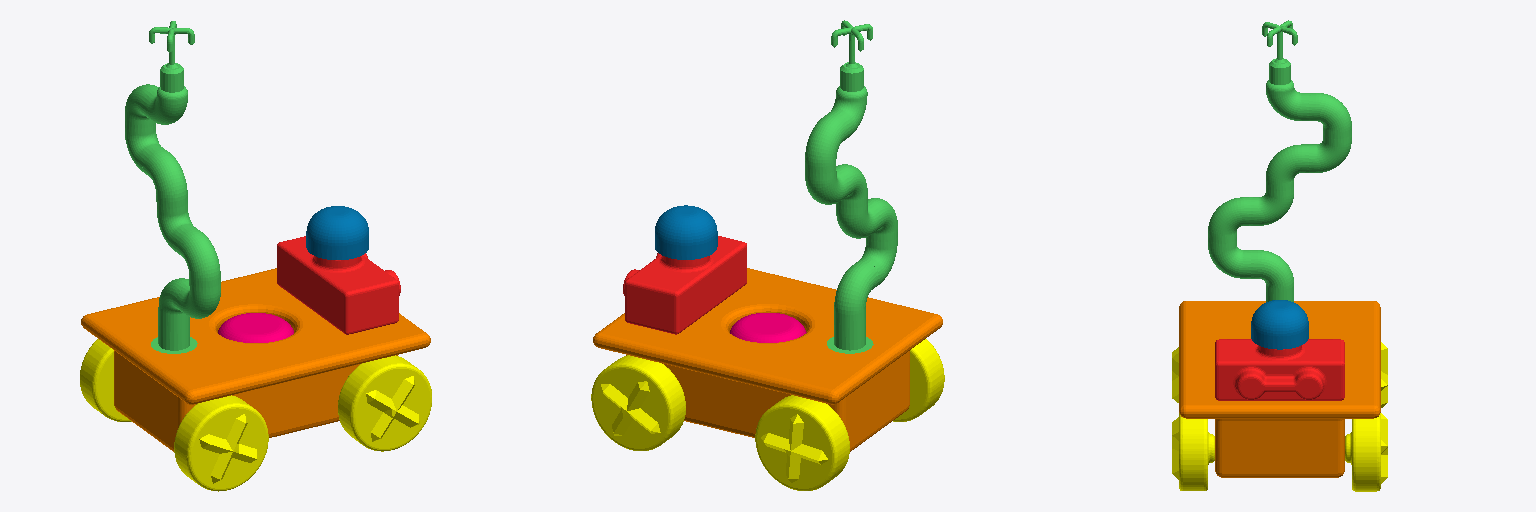
URDF robot description (MRobot):
<?xml version="1.0" encoding="utf-8"?>
<!-- This URDF was automatically created by SolidWorks to URDF Exporter! Originally created by [author] ([email redacted]) 
     Commit Version: 1.6.0-4-g7f85cfe  Build Version: 1.6.7995.38578
     For more information, please see http://wiki.ros.org/sw_urdf_exporter -->
<robot
  name="MRobot">
  <link
    name="base_link">
    <inertial>
      <origin
        xyz="-2.7756E-17 2.7756E-17 0.093261"
        rpy="0 0 0" />
      <mass
        value="7.1556" />
      <inertia
        ixx="0.036675"
        ixy="6.4322E-18"
        ixz="-8.9158E-18"
        iyy="0.076383"
        iyz="2.5114E-19"
        izz="0.094459" />
    </inertial>
    <visual>
      <origin
        xyz="0 0 0"
        rpy="0 0 0" />
      <geometry>
        <mesh
          filename="package://mrobot_description/meshes/base_link.STL" />
      </geometry>
      <material
        name="">
        <color
          rgba="1 0.54902 0 1" />
      </material>
    </visual>
    <collision>
      <origin
        xyz="0 0 0"
        rpy="0 0 0" />
      <geometry>
        <mesh
          filename="package://mrobot_description/meshes/base_link.STL" />
      </geometry>
    </collision>
  </link>
  <link
    name="LFW_Link">
    <inertial>
      <origin
        xyz="2.3243E-06 -0.020721 -6.7841E-07"
        rpy="0 0 0" />
      <mass
        value="0.48673" />
      <inertia
        ixx="0.00050184"
        ixy="-3.1361E-08"
        ixz="2.2406E-09"
        iyy="0.00081481"
        iyz="9.1535E-09"
        izz="0.00050184" />
    </inertial>
    <visual>
      <origin
        xyz="0 0 0"
        rpy="0 0 0" />
      <geometry>
        <mesh
          filename="package://mrobot_description/meshes/LFW_Link.STL" />
      </geometry>
      <material
        name="">
        <color
          rgba="1 1 0 1" />
      </material>
    </visual>
    <collision>
      <origin
        xyz="0 0 0"
        rpy="0 0 0" />
      <geometry>
        <mesh
          filename="package://mrobot_description/meshes/LFW_Link.STL" />
      </geometry>
    </collision>
  </link>
  <joint
    name="LFW_Joint"
    type="continuous">
    <origin
      xyz="0.12 0.14 0.0599"
      rpy="0 0 0" />
    <parent
      link="base_link" />
    <child
      link="LFW_Link" />
    <axis
      xyz="0 1 0" />
  </joint>
  <link
    name="LBW_Link">
    <inertial>
      <origin
        xyz="1.8572E-06 -0.020721 -1.5535E-06"
        rpy="0 0 0" />
      <mass
        value="0.48673" />
      <inertia
        ixx="0.00050184"
        ixy="-2.5058E-08"
        ixz="4.0997E-09"
        iyy="0.00081481"
        iyz="2.0962E-08"
        izz="0.00050184" />
    </inertial>
    <visual>
      <origin
        xyz="0 0 0"
        rpy="0 0 0" />
      <geometry>
        <mesh
          filename="package://mrobot_description/meshes/LBW_Link.STL" />
      </geometry>
      <material
        name="">
        <color
          rgba="1 1 0 1" />
      </material>
    </visual>
    <collision>
      <origin
        xyz="0 0 0"
        rpy="0 0 0" />
      <geometry>
        <mesh
          filename="package://mrobot_description/meshes/LBW_Link.STL" />
      </geometry>
    </collision>
  </link>
  <joint
    name="LBW_Joint"
    type="continuous">
    <origin
      xyz="-0.12 0.14 0.0599"
      rpy="0 0 0" />
    <parent
      link="base_link" />
    <child
      link="LBW_Link" />
    <axis
      xyz="0 1 0" />
  </joint>
  <link
    name="RFW_Link">
    <inertial>
      <origin
        xyz="-2.4027E-06 0.020721 -2.9925E-07"
        rpy="0 0 0" />
      <mass
        value="0.48673" />
      <inertia
        ixx="0.00050184"
        ixy="-3.2419E-08"
        ixz="-1.0217E-09"
        iyy="0.00081481"
        iyz="-4.0377E-09"
        izz="0.00050185" />
    </inertial>
    <visual>
      <origin
        xyz="0 0 0"
        rpy="0 0 0" />
      <geometry>
        <mesh
          filename="package://mrobot_description/meshes/RFW_Link.STL" />
      </geometry>
      <material
        name="">
        <color
          rgba="1 1 0 1" />
      </material>
    </visual>
    <collision>
      <origin
        xyz="0 0 0"
        rpy="0 0 0" />
      <geometry>
        <mesh
          filename="package://mrobot_description/meshes/RFW_Link.STL" />
      </geometry>
    </collision>
  </link>
  <joint
    name="RFW_Joint"
    type="continuous">
    <origin
      xyz="0.12 -0.14 0.0599"
      rpy="0 0 0" />
    <parent
      link="base_link" />
    <child
      link="RFW_Link" />
    <axis
      xyz="0 1 0" />
  </joint>
  <link
    name="RBW_Link">
    <inertial>
      <origin
        xyz="2.3148E-06 0.020721 7.1032E-07"
        rpy="0 0 0" />
      <mass
        value="0.48673" />
      <inertia
        ixx="0.00050184"
        ixy="3.1232E-08"
        ixz="-2.3363E-09"
        iyy="0.00081481"
        iyz="9.5841E-09"
        izz="0.00050184" />
    </inertial>
    <visual>
      <origin
        xyz="0 0 0"
        rpy="0 0 0" />
      <geometry>
        <mesh
          filename="package://mrobot_description/meshes/RBW_Link.STL" />
      </geometry>
      <material
        name="">
        <color
          rgba="1 1 0 1" />
      </material>
    </visual>
    <collision>
      <origin
        xyz="0 0 0"
        rpy="0 0 0" />
      <geometry>
        <mesh
          filename="package://mrobot_description/meshes/RBW_Link.STL" />
      </geometry>
    </collision>
  </link>
  <joint
    name="RBW_Joint"
    type="continuous">
    <origin
      xyz="-0.12 -0.14 0.0599000145774858"
      rpy="0 0 0" />
    <parent
      link="base_link" />
    <child
      link="RBW_Link" />
    <axis
      xyz="0 1 0" />
  </joint>
  <link
    name="IMU_Link">
    <inertial>
      <origin
        xyz="-2.7756E-17 0 0.025"
        rpy="0 0 0" />
      <mass
        value="0.34358" />
      <inertia
        ixx="0.00025428"
        ixy="5.1726E-22"
        ixz="-6.1904E-21"
        iyy="0.00025428"
        iyz="-1.6674E-37"
        izz="0.00038703" />
    </inertial>
    <visual>
      <origin
        xyz="0 0 0"
        rpy="0 0 0" />
      <geometry>
        <mesh
          filename="package://mrobot_description/meshes/IMU_Link.STL" />
      </geometry>
      <material
        name="">
        <color
          rgba="1 0 0.50196 1" />
      </material>
    </visual>
    <collision>
      <origin
        xyz="0 0 0"
        rpy="0 0 0" />
      <geometry>
        <mesh
          filename="package://mrobot_description/meshes/IMU_Link.STL" />
      </geometry>
    </collision>
  </link>
  <joint
    name="IMU_Joint"
    type="fixed">
    <origin
      xyz="0 0 0.0999"
      rpy="0 0 0" />
    <parent
      link="base_link" />
    <child
      link="IMU_Link" />
    <axis
      xyz="0 0 1" />
  </joint>
  <link
    name="Camera_Link">
    <inertial>
      <origin
        xyz="-0.05702 5.5511E-17 -4.6026E-05"
        rpy="0 0 0" />
      <mass
        value="1.0337" />
      <inertia
        ixx="0.0028575"
        ixy="-6.1857E-20"
        ixz="-1.4178E-07"
        iyy="0.0010679"
        iyz="1.6895E-19"
        izz="0.0030374" />
    </inertial>
    <visual>
      <origin
        xyz="0 0 0"
        rpy="0 0 0" />
      <geometry>
        <mesh
          filename="package://mrobot_description/meshes/Camera_Link.STL" />
      </geometry>
      <material
        name="">
        <color
          rgba="1 0.16863 0.16863 1" />
      </material>
    </visual>
    <collision>
      <origin
        xyz="0 0 0"
        rpy="0 0 0" />
      <geometry>
        <mesh
          filename="package://mrobot_description/meshes/Camera_Link.STL" />
      </geometry>
    </collision>
  </link>
  <joint
    name="Camera_Joint"
    type="fixed">
    <origin
      xyz="0.18 0 0.1799"
      rpy="0 0 0" />
    <parent
      link="base_link" />
    <child
      link="Camera_Link" />
    <axis
      xyz="0 0 0" />
  </joint>
  <link
    name="Laser_Link">
    <inertial>
      <origin
        xyz="0 0 -0.028399"
        rpy="0 0 0" />
      <mass
        value="0.21092" />
      <inertia
        ixx="0.00011218"
        ixy="1.9163E-23"
        ixz="-1.8966E-21"
        iyy="0.00011218"
        iyz="2.7996E-21"
        izz="0.00015264" />
    </inertial>
    <visual>
      <origin
        xyz="0 0 0"
        rpy="0 0 0" />
      <geometry>
        <mesh
          filename="package://mrobot_description/meshes/Laser_Link.STL" />
      </geometry>
      <material
        name="">
        <color
          rgba="0.039216 0.4902 0.7098 1" />
      </material>
    </visual>
    <collision>
      <origin
        xyz="0 0 0"
        rpy="0 0 0" />
      <geometry>
        <mesh
          filename="package://mrobot_description/meshes/Laser_Link.STL" />
      </geometry>
    </collision>
  </link>
  <joint
    name="Laser_Joint"
    type="fixed">
    <origin
      xyz="0.12 0 0.2799"
      rpy="0 0 0" />
    <parent
      link="base_link" />
    <child
      link="Laser_Link" />
    <axis
      xyz="0 0 0" />
  </joint>
  <link
    name="Arm1_Link">
    <inertial>
      <origin
        xyz="1.0996E-05 -0.0041714 0.050968"
        rpy="0 0 0" />
      <mass
        value="0.18488" />
      <inertia
        ixx="0.00027199"
        ixy="3.3806E-08"
        ixz="-9.832E-08"
        iyy="0.00025917"
        iyz="3.7297E-05"
        izz="6.488E-05" />
    </inertial>
    <visual>
      <origin
        xyz="0 0 0"
        rpy="0 0 0" />
      <geometry>
        <mesh
          filename="package://mrobot_description/meshes/Arm1_Link.STL" />
      </geometry>
      <material
        name="">
        <color
          rgba="0.34118 0.83922 0.41176 1" />
      </material>
    </visual>
    <collision>
      <origin
        xyz="0 0 0"
        rpy="0 0 0" />
      <geometry>
        <mesh
          filename="package://mrobot_description/meshes/Arm1_Link.STL" />
      </geometry>
    </collision>
  </link>
  <joint
    name="Arm1_Joint"
    type="continuous">
    <origin
      xyz="-0.12 0 0.1299"
      rpy="0 0 0" />
    <parent
      link="base_link" />
    <child
      link="Arm1_Link" />
    <axis
      xyz="0 0 1" />
  </joint>
  <link
    name="Arm2_Link">
    <inertial>
      <origin
        xyz="-0.00011471 -0.044898 0.0091401"
        rpy="0 0 0" />
      <mass
        value="0.08435" />
      <inertia
        ixx="4.4126E-05"
        ixy="-2.3556E-07"
        ixz="1.9975E-07"
        iyy="2.5859E-05"
        iyz="1.1127E-05"
        izz="3.5146E-05" />
    </inertial>
    <visual>
      <origin
        xyz="0 0 0"
        rpy="0 0 0" />
      <geometry>
        <mesh
          filename="package://mrobot_description/meshes/Arm2_Link.STL" />
      </geometry>
      <material
        name="">
        <color
          rgba="0.34118 0.83922 0.41176 1" />
      </material>
    </visual>
    <collision>
      <origin
        xyz="0 0 0"
        rpy="0 0 0" />
      <geometry>
        <mesh
          filename="package://mrobot_description/meshes/Arm2_Link.STL" />
      </geometry>
    </collision>
  </link>
  <joint
    name="Arm2_Joint"
    type="continuous">
    <origin
      xyz="5.2723E-05 -0.02 0.1"
      rpy="0 0 0" />
    <parent
      link="Arm1_Link" />
    <child
      link="Arm2_Link" />
    <axis
      xyz="0 1 0" />
  </joint>
  <link
    name="Arm3_Link">
    <inertial>
      <origin
        xyz="-0.0011642 0.00914 0.044883"
        rpy="0 0 0" />
      <mass
        value="0.08435" />
      <inertia
        ixx="4.4117E-05"
        ixy="3.0307E-07"
        ixz="4.8958E-07"
        iyy="3.5142E-05"
        iyz="-1.1125E-05"
        izz="2.5871E-05" />
    </inertial>
    <visual>
      <origin
        xyz="0 0 0"
        rpy="0 0 0" />
      <geometry>
        <mesh
          filename="package://mrobot_description/meshes/Arm3_Link.STL" />
      </geometry>
      <material
        name="">
        <color
          rgba="0.34118 0.83922 0.41176 1" />
      </material>
    </visual>
    <collision>
      <origin
        xyz="0 0 0"
        rpy="0 0 0" />
      <geometry>
        <mesh
          filename="package://mrobot_description/meshes/Arm3_Link.STL" />
      </geometry>
    </collision>
  </link>
  <joint
    name="Arm3_Joint"
    type="continuous">
    <origin
      xyz="-0.00035165 -0.060001 0.019994"
      rpy="0 0 0" />
    <parent
      link="Arm2_Link" />
    <child
      link="Arm3_Link" />
    <axis
      xyz="0 0 1" />
  </joint>
  <link
    name="Arm4_Link">
    <inertial>
      <origin
        xyz="-0.00029434 0.044897 0.0091415"
        rpy="0 0 0" />
      <mass
        value="0.08435" />
      <inertia
        ixx="4.4125E-05"
        ixy="2.7981E-07"
        ixz="2.1815E-07"
        iyy="2.5861E-05"
        iyz="-1.1127E-05"
        izz="3.5144E-05" />
    </inertial>
    <visual>
      <origin
        xyz="0 0 0"
        rpy="0 0 0" />
      <geometry>
        <mesh
          filename="package://mrobot_description/meshes/Arm4_Link.STL" />
      </geometry>
      <material
        name="">
        <color
          rgba="0.34118 0.83922 0.41176 1" />
      </material>
    </visual>
    <collision>
      <origin
        xyz="0 0 0"
        rpy="0 0 0" />
      <geometry>
        <mesh
          filename="package://mrobot_description/meshes/Arm4_Link.STL" />
      </geometry>
    </collision>
  </link>
  <joint
    name="Arm4_Joint"
    type="continuous">
    <origin
      xyz="-0.0015726 0.019996 0.059981"
      rpy="0 0 0" />
    <parent
      link="Arm3_Link" />
    <child
      link="Arm4_Link" />
    <axis
      xyz="0 1 0" />
  </joint>
  <link
    name="Arm5_Link">
    <inertial>
      <origin
        xyz="-0.00096691 0.0091404 0.044888"
        rpy="0 0 0" />
      <mass
        value="0.08435" />
      <inertia
        ixx="4.4122E-05"
        ixy="2.3751E-07"
        ixz="3.9101E-07"
        iyy="3.5142E-05"
        iyz="-1.1127E-05"
        izz="2.5867E-05" />
    </inertial>
    <visual>
      <origin
        xyz="0 0 0"
        rpy="0 0 0" />
      <geometry>
        <mesh
          filename="package://mrobot_description/meshes/Arm5_Link.STL" />
      </geometry>
      <material
        name="">
        <color
          rgba="0.34118 0.83922 0.41176 1" />
      </material>
    </visual>
    <collision>
      <origin
        xyz="0 0 0"
        rpy="0 0 0" />
      <geometry>
        <mesh
          filename="package://mrobot_description/meshes/Arm5_Link.STL" />
      </geometry>
    </collision>
  </link>
  <joint
    name="Arm5_Joint"
    type="continuous">
    <origin
      xyz="-0.00056143 0.059999 0.019996"
      rpy="0 0 0" />
    <parent
      link="Arm4_Link" />
    <child
      link="Arm5_Link" />
    <axis
      xyz="0 0 1" />
  </joint>
  <link
    name="Arm6_Link">
    <inertial>
      <origin
        xyz="8.7382E-05 0.044897 0.0091457"
        rpy="0 0 0" />
      <mass
        value="0.08435" />
      <inertia
        ixx="4.413E-05"
        ixy="-9.4656E-08"
        ixz="-7.5296E-08"
        iyy="2.5861E-05"
        iyz="-1.113E-05"
        izz="3.514E-05" />
    </inertial>
    <visual>
      <origin
        xyz="0 0 0"
        rpy="0 0 0" />
      <geometry>
        <mesh
          filename="package://mrobot_description/meshes/Arm6_Link.STL" />
      </geometry>
      <material
        name="">
        <color
          rgba="0.34118 0.83922 0.41176 1" />
      </material>
    </visual>
    <collision>
      <origin
        xyz="0 0 0"
        rpy="0 0 0" />
      <geometry>
        <mesh
          filename="package://mrobot_description/meshes/Arm6_Link.STL" />
      </geometry>
    </collision>
  </link>
  <joint
    name="Arm6_Joint"
    type="continuous">
    <origin
      xyz="-0.0012896 0.019996 0.059987"
      rpy="0 0 0" />
    <parent
      link="Arm5_Link" />
    <child
      link="Arm6_Link" />
    <axis
      xyz="0 1 0" />
  </joint>
  <link
    name="Arm7_Link">
    <inertial>
      <origin
        xyz="0.00043811 -0.0091458 0.044895"
        rpy="0 0 0" />
      <mass
        value="0.08435" />
      <inertia
        ixx="4.4127E-05"
        ixy="1.6742E-07"
        ixz="-2.4306E-07"
        iyy="3.514E-05"
        iyz="1.1129E-05"
        izz="2.5864E-05" />
    </inertial>
    <visual>
      <origin
        xyz="0 0 0"
        rpy="0 0 0" />
      <geometry>
        <mesh
          filename="package://mrobot_description/meshes/Arm7_Link.STL" />
      </geometry>
      <material
        name="">
        <color
          rgba="0.34118 0.83922 0.41176 1" />
      </material>
    </visual>
    <collision>
      <origin
        xyz="0 0 0"
        rpy="0 0 0" />
      <geometry>
        <mesh
          filename="package://mrobot_description/meshes/Arm7_Link.STL" />
      </geometry>
    </collision>
  </link>
  <joint
    name="Arm7_Joint"
    type="continuous">
    <origin
      xyz="0.00017885 0.059999 0.020003"
      rpy="0 0 0" />
    <parent
      link="Arm6_Link" />
    <child
      link="Arm7_Link" />
    <axis
      xyz="0 0 1" />
  </joint>
  <link
    name="Arm8_Link">
    <inertial>
      <origin
        xyz="0.00030661 -0.044611 0.0085859"
        rpy="0 0 0" />
      <mass
        value="0.082779" />
      <inertia
        ixx="4.2149E-05"
        ixy="5.5172E-08"
        ixz="-1.4313E-08"
        iyy="2.424E-05"
        iyz="1.0427E-05"
        izz="3.4247E-05" />
    </inertial>
    <visual>
      <origin
        xyz="0 0 0"
        rpy="0 0 0" />
      <geometry>
        <mesh
          filename="package://mrobot_description/meshes/Arm8_Link.STL" />
      </geometry>
      <material
        name="">
        <color
          rgba="0.34118 0.83922 0.41176 1" />
      </material>
    </visual>
    <collision>
      <origin
        xyz="0 0 0"
        rpy="0 0 0" />
      <geometry>
        <mesh
          filename="package://mrobot_description/meshes/Arm8_Link.STL" />
      </geometry>
    </collision>
  </link>
  <joint
    name="Arm8_Joint"
    type="continuous">
    <origin
      xyz="0.00065353 -0.020003 0.059995"
      rpy="0 0 0" />
    <parent
      link="Arm7_Link" />
    <child
      link="Arm8_Link" />
    <axis
      xyz="0 1 0" />
  </joint>
  <link
    name="Arm9_Link">
    <inertial>
      <origin
        xyz="-0.00044489 -1.0208E-05 0.045738"
        rpy="0 0 0" />
      <mass
        value="0.037119" />
      <inertia
        ixx="3.7094E-05"
        ixy="-6.8342E-11"
        ixz="3.062E-07"
        iyy="3.7097E-05"
        iyz="7.0261E-09"
        izz="5.6183E-06" />
    </inertial>
    <visual>
      <origin
        xyz="0 0 0"
        rpy="0 0 0" />
      <geometry>
        <mesh
          filename="package://mrobot_description/meshes/Arm9_Link.STL" />
      </geometry>
      <material
        name="">
        <color
          rgba="0.34118 0.83922 0.41176 1" />
      </material>
    </visual>
    <collision>
      <origin
        xyz="0 0 0"
        rpy="0 0 0" />
      <geometry>
        <mesh
          filename="package://mrobot_description/meshes/Arm9_Link.STL" />
      </geometry>
    </collision>
  </link>
  <joint
    name="Arm9_Joint"
    type="continuous">
    <origin
      xyz="0.00033025 -0.060002 0.019991"
      rpy="0 0 0" />
    <parent
      link="Arm8_Link" />
    <child
      link="Arm9_Link" />
    <axis
      xyz="0 0 1" />
  </joint>
</robot>

--- Render facts (derived) ---
3 views of the same robot in one strip: view 1: azimuth 30°, elevation 25°; view 2: azimuth 150°, elevation 25°; view 3: azimuth 270°, elevation 25° (orthographic).
Model MRobot with 17 links and 16 joints (13 continuous, 3 fixed), rooted at base_link, posed all joints at 0.
Links seen in each view (by area): view 1: base_link, Camera_Link, RBW_Link, RFW_Link, Laser_Link, LBW_Link, Arm1_Link, Arm3_Link, Arm5_Link, IMU_Link, Arm9_Link, Arm8_Link (+4 smaller); view 2: base_link, Camera_Link, LFW_Link, LBW_Link, Arm1_Link, Laser_Link, RBW_Link, Arm7_Link, IMU_Link, Arm9_Link, Arm6_Link, Arm4_Link (+4 smaller); view 3: base_link, Camera_Link, LFW_Link, RFW_Link, Laser_Link, Arm1_Link, Arm5_Link, Arm3_Link, Arm7_Link, Arm8_Link, Arm4_Link, Arm2_Link (+2 smaller).
Boxes of the visible links, <box> form: base_link: <box>81,268,430,451</box>; Camera_Link: <box>277,236,400,334</box>; RBW_Link: <box>174,395,268,491</box>; RFW_Link: <box>338,355,431,451</box>; Laser_Link: <box>306,206,368,259</box>; LBW_Link: <box>80,339,131,421</box>; Arm1_Link: <box>151,278,197,353</box>; Arm3_Link: <box>175,227,220,287</box>; Arm5_Link: <box>142,147,187,208</box>; IMU_Link: <box>218,313,293,342</box>; Arm9_Link: <box>149,21,194,92</box>; Arm8_Link: <box>143,86,187,124</box>; base_link: <box>593,268,942,451</box>; Camera_Link: <box>623,236,746,334</box>; LFW_Link: <box>591,355,685,450</box>; LBW_Link: <box>755,395,849,490</box>; Arm1_Link: <box>827,261,878,353</box>; Laser_Link: <box>655,205,717,259</box>; RBW_Link: <box>893,339,944,421</box>; Arm7_Link: <box>805,113,849,173</box>; IMU_Link: <box>730,313,806,342</box>; Arm9_Link: <box>831,20,872,91</box>; Arm6_Link: <box>805,169,849,204</box>; Arm4_Link: <box>836,203,880,238</box>; base_link: <box>1179,301,1380,477</box>; Camera_Link: <box>1215,339,1344,400</box>; LFW_Link: <box>1345,413,1387,491</box>; RFW_Link: <box>1172,413,1214,490</box>; Laser_Link: <box>1251,300,1308,349</box>; Arm1_Link: <box>1251,250,1293,301</box>; Arm5_Link: <box>1266,144,1308,190</box>; Arm3_Link: <box>1208,197,1250,243</box>; Arm7_Link: <box>1309,93,1351,138</box>; Arm8_Link: <box>1266,80,1308,120</box>; Arm4_Link: <box>1251,187,1293,225</box>; Arm2_Link: <box>1208,239,1250,278</box>.
Size in the robot's own frame: 0.36 by 0.3 by 0.5941 metres.
Meshes: 17 distinct files referenced, 17 mesh visuals loaded (17 binary STL).